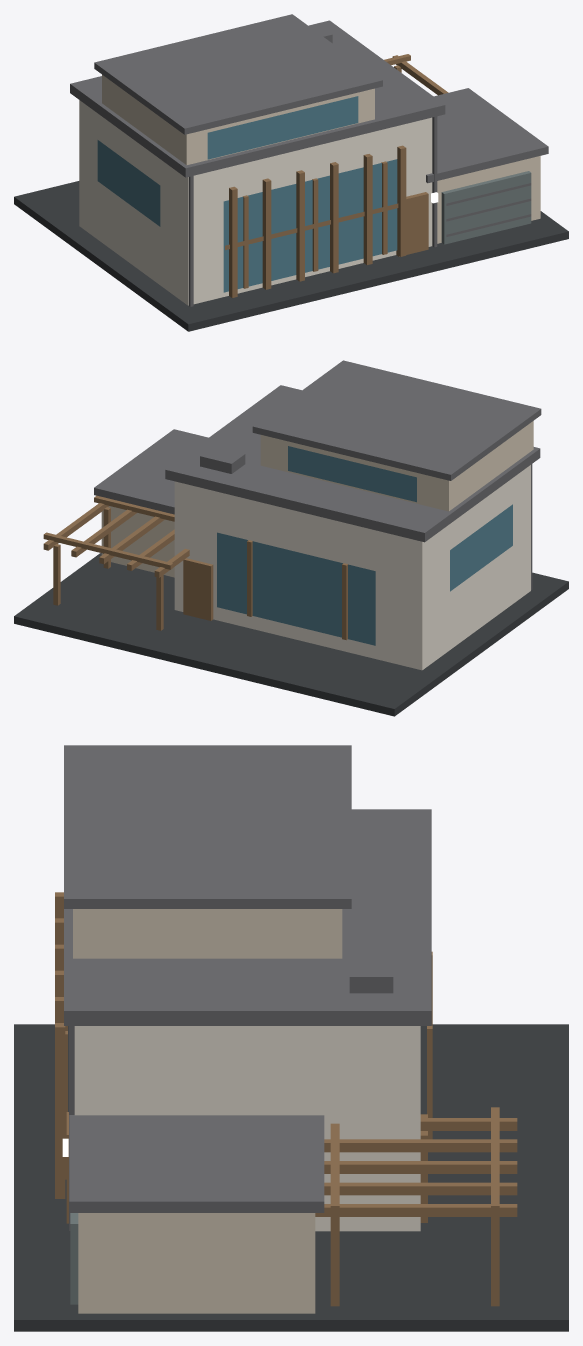
File: villa_b.glb
3 views of the same model, one above another, from view 1: azimuth 30°, elevation 25°; view 2: azimuth 150°, elevation 25°; view 3: azimuth 270°, elevation 25° (orthographic). The views are drawn at different scales.
Parts seen in each view (by area): view 1: Merged_RoofDark, villab_main, Merged_VillaGlass, Merged_VillaGranite, Merged_VillaWood, Merged_VillaStone, villab_garage_door; view 2: Merged_RoofDark, villab_main, Merged_VillaGranite, Merged_VillaGlass, Merged_VillaWood, Merged_VillaStone; view 3: Merged_RoofDark, Merged_VillaGranite, Merged_VillaStone, villab_main, Merged_VillaWood, villab_garage_door.
Boxes of the visible parts, x1,y1,x2,y2 form: Merged_RoofDark: (70,14,548,306); villab_main: (79,100,432,305); Merged_VillaGlass: (97,96,397,292); Merged_VillaGranite: (14,181,568,331); Merged_VillaWood: (225,54,448,297); Merged_VillaStone: (102,74,540,243); villab_garage_door: (441,171,531,244); Merged_RoofDark: (94,360,541,589); villab_main: (174,465,530,670); Merged_VillaGranite: (14,553,568,716); Merged_VillaGlass: (217,446,512,645); Merged_VillaWood: (43,495,347,640); Merged_VillaStone: (101,421,533,577); Merged_RoofDark: (64,745,431,1230); Merged_VillaGranite: (14,1024,568,1331); Merged_VillaStone: (73,909,342,1313); villab_main: (74,1026,420,1231); Merged_VillaWood: (55,892,517,1306); villab_garage_door: (70,1213,78,1304).
Size of the model in its own units: 19.2 by 9.1 by 15.24.
